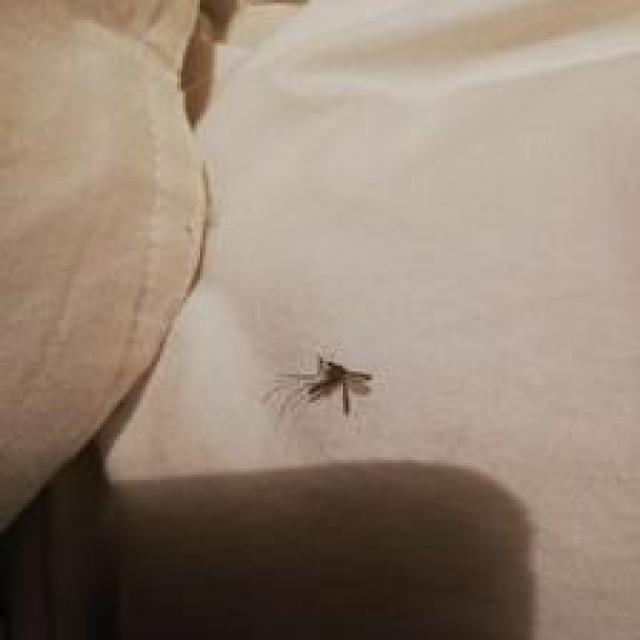Culex: (261, 352, 373, 417)
